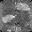people: (2, 14, 16, 24)
